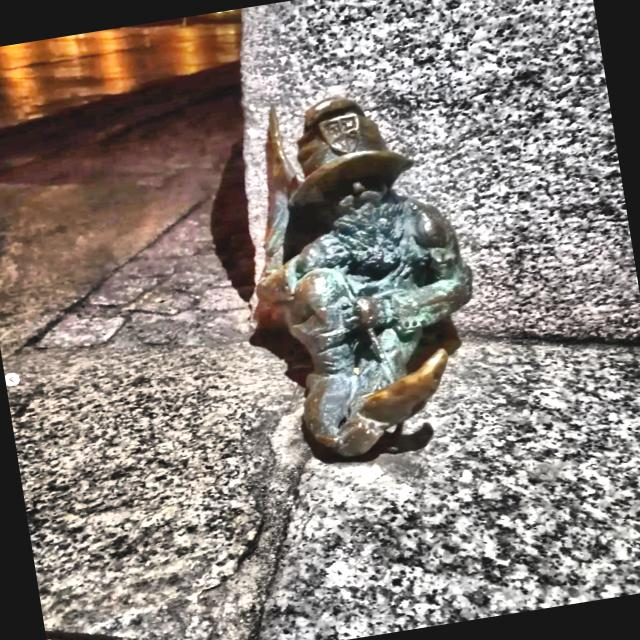Spioch: (256, 97, 472, 457)
